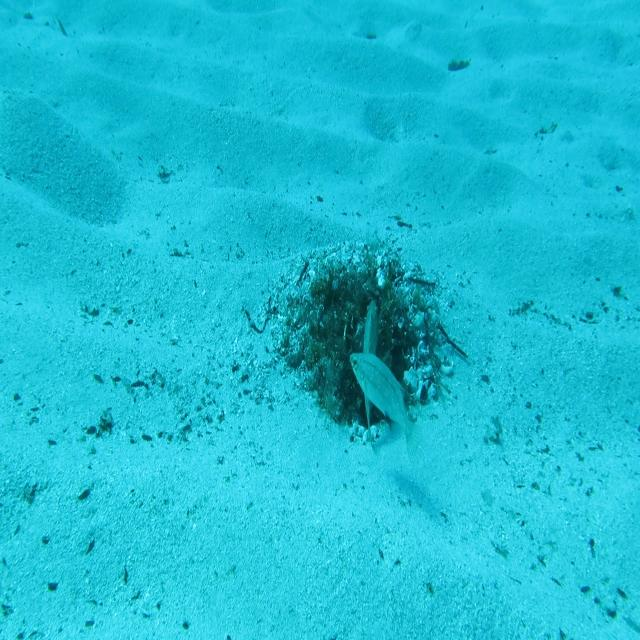FAN: (358, 298, 386, 454)
core_nest: (331, 280, 377, 314)
female: (350, 350, 426, 469)
nest: (261, 226, 458, 457)
vegetation: (446, 58, 472, 74)
